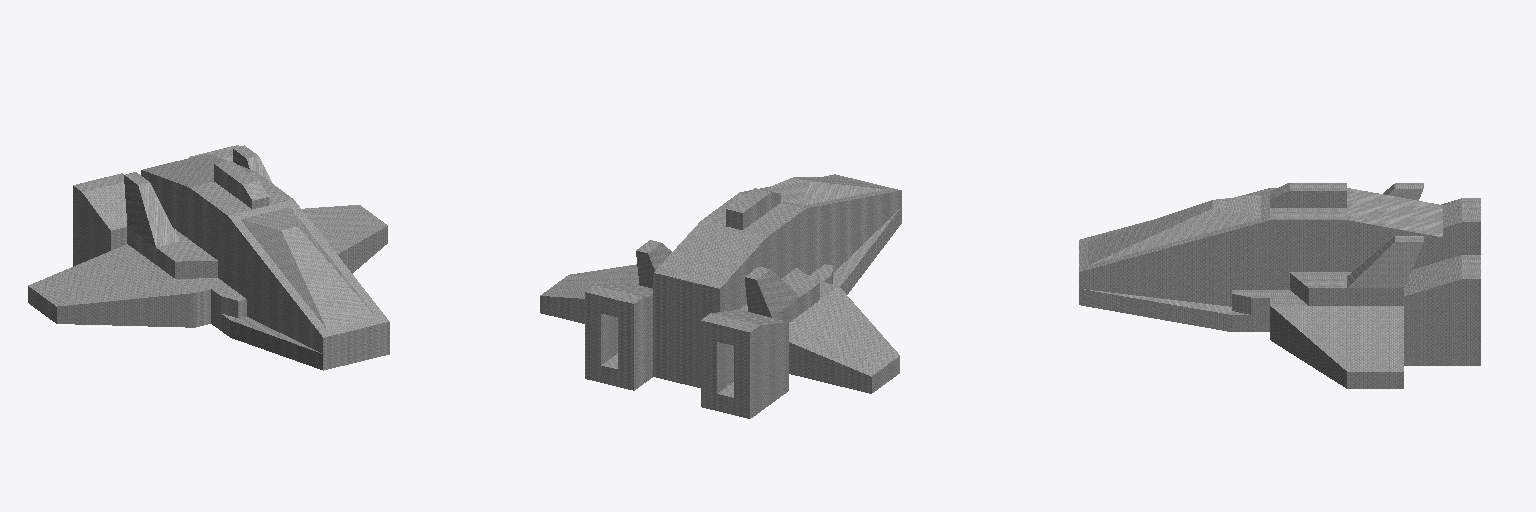
3 views of the same model, side by side, from view 1: azimuth 30°, elevation 25°; view 2: azimuth 150°, elevation 25°; view 3: azimuth 270°, elevation 25° (orthographic).
Parts seen in each view (by area): view 1: craft_speederA; view 2: craft_speederA; view 3: craft_speederA.
Part boxes in pixels (x1,y1,x2,y2): craft_speederA: (28, 145, 389, 370); craft_speederA: (540, 174, 901, 418); craft_speederA: (1079, 183, 1480, 388).
Bounding box in the file's own units: 2 × 0.8 × 2.1.
4 materials, 1 textured.